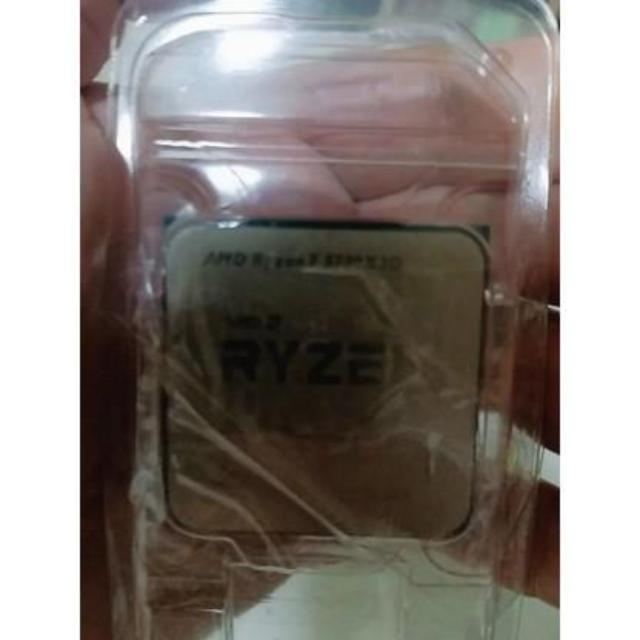CPU: (161, 216, 484, 542)
